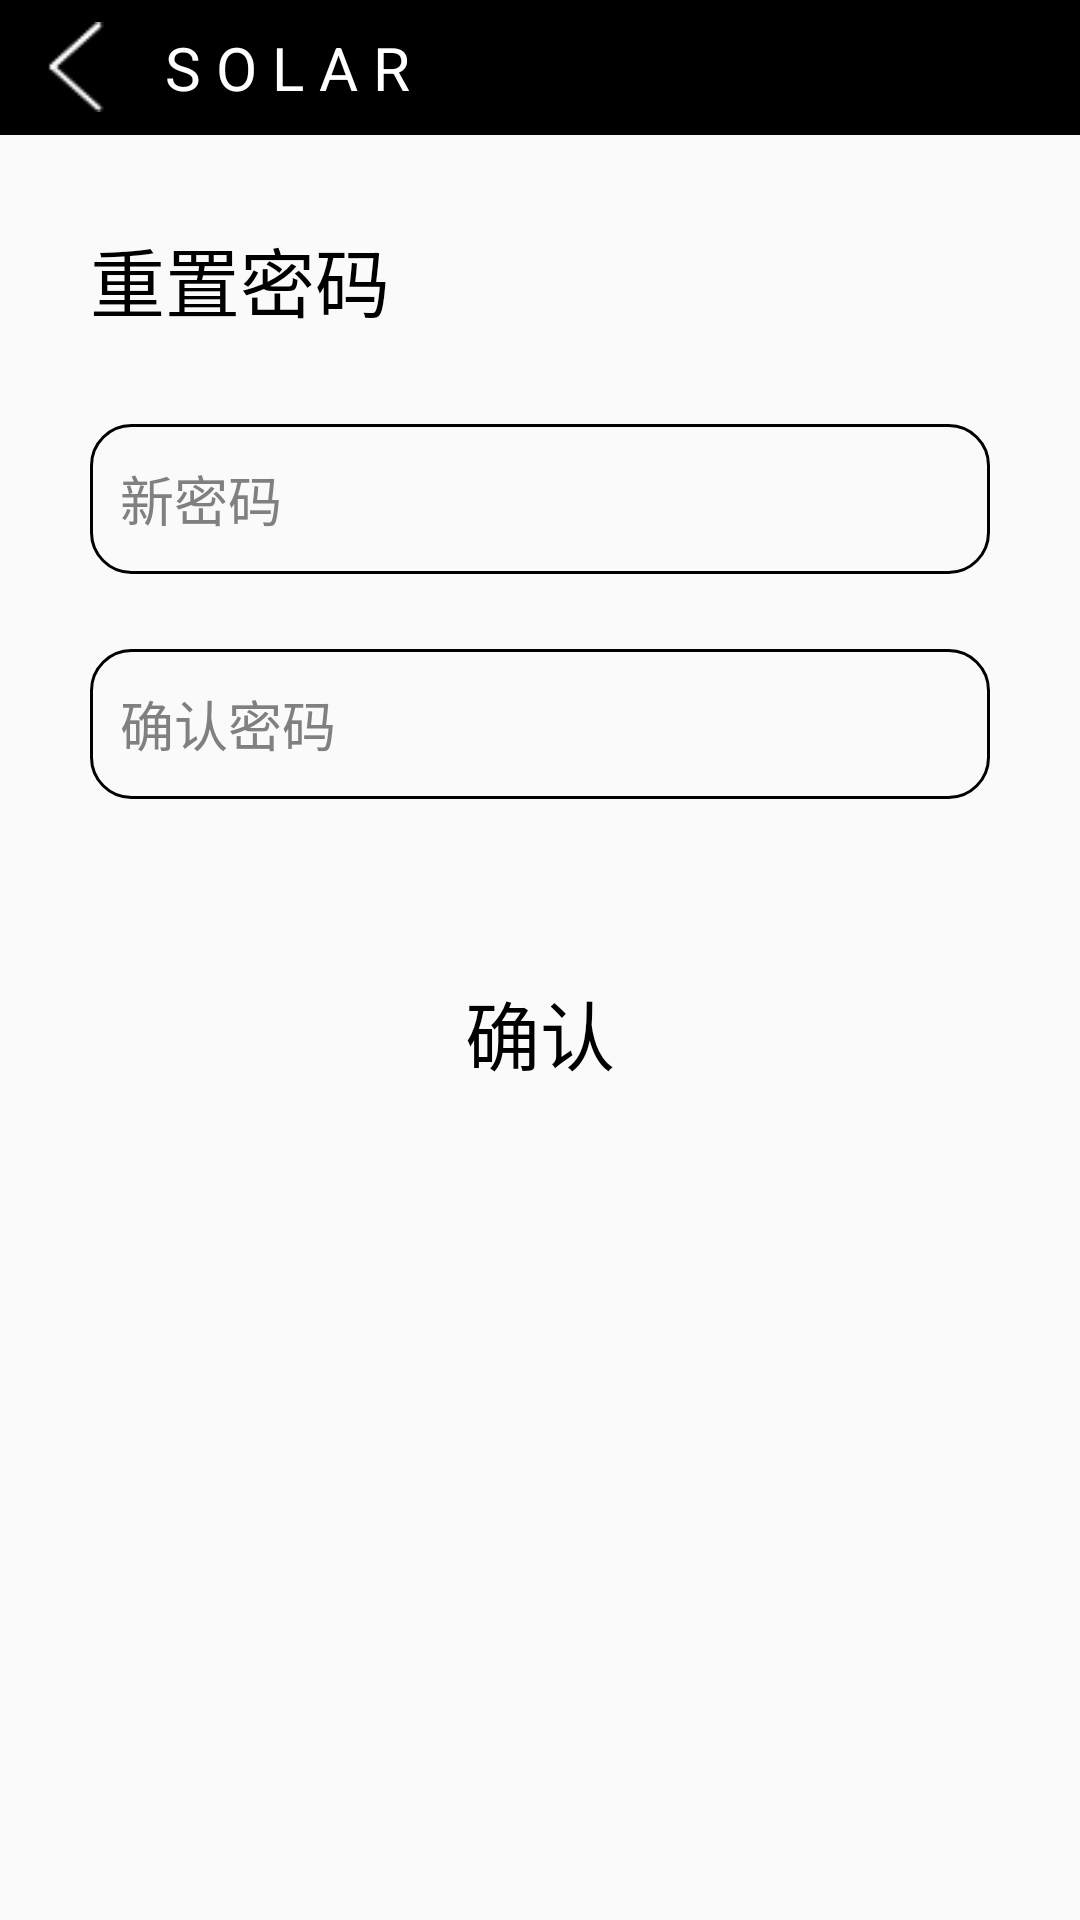

Screen size 1080px×1920px. Icon name, then its center in pixels as (x=x, y=y):
left: (x=76, y=67)
